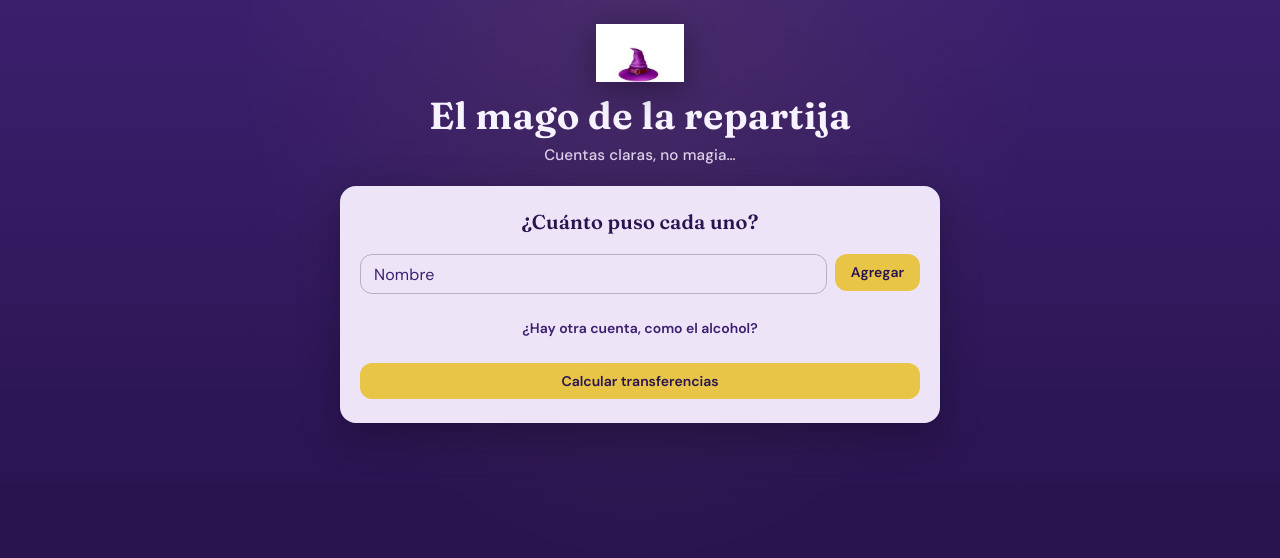
Test: debería avisar cuando hay menos de dos nombres al calcular
This screenshot has width=1280, height=558.
Type "Ferra" into the field labelled "Nombre".
click(593, 274); type("Ferra")  # box [360, 254, 827, 294]
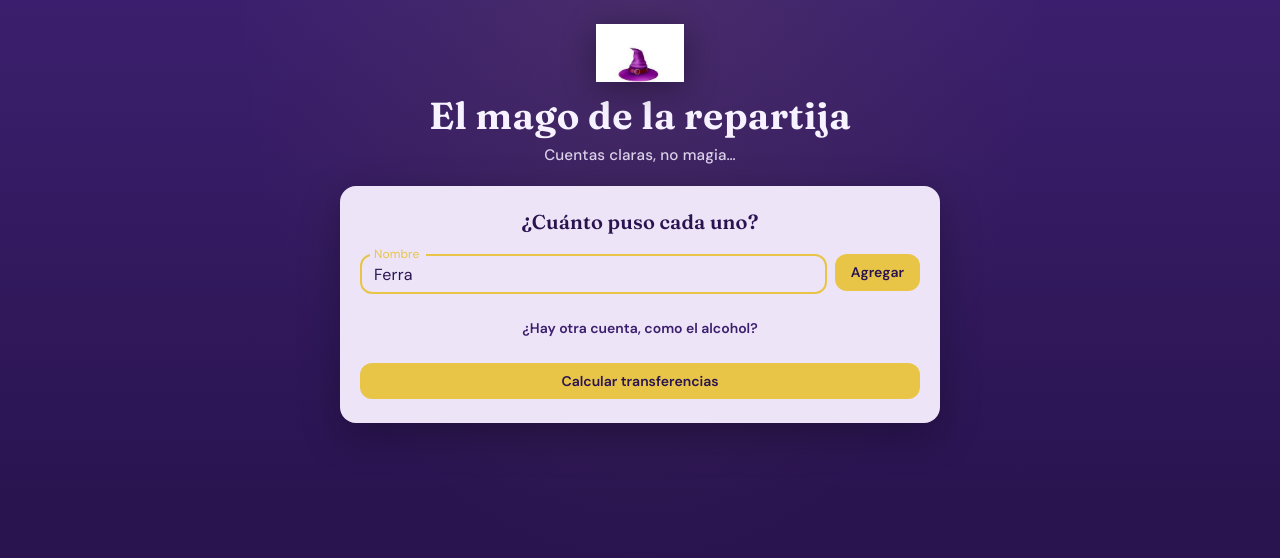
Click the button "Agregar".
click(877, 273)  # box [835, 254, 920, 291]
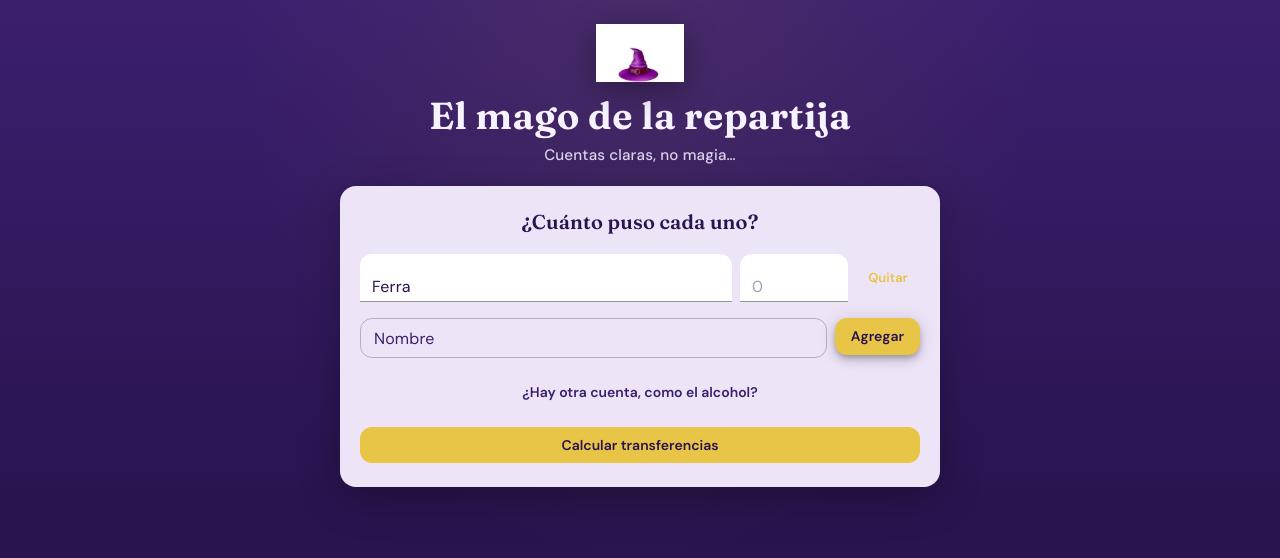
Click the button "Calcular transferencias".
click(640, 445)  # box [360, 427, 920, 464]
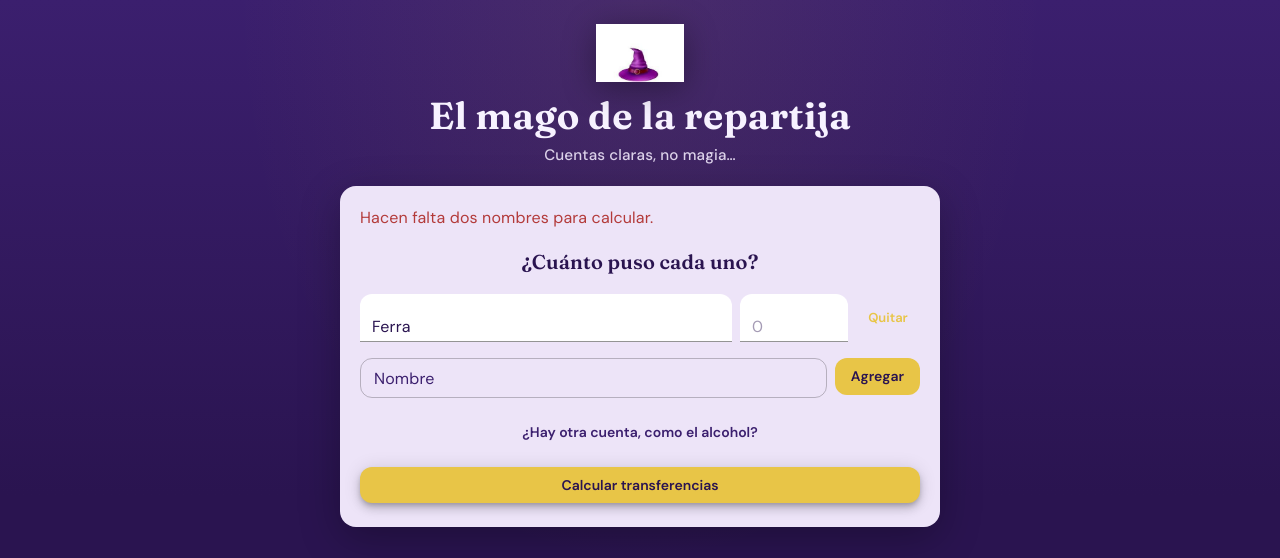
Expected: the heading "¿Cuánto puso cada uno?" is shown, [522, 250, 758, 274]
Now the text "Hacen falta dos nombres para calcular." is shown, box [360, 208, 653, 228]
